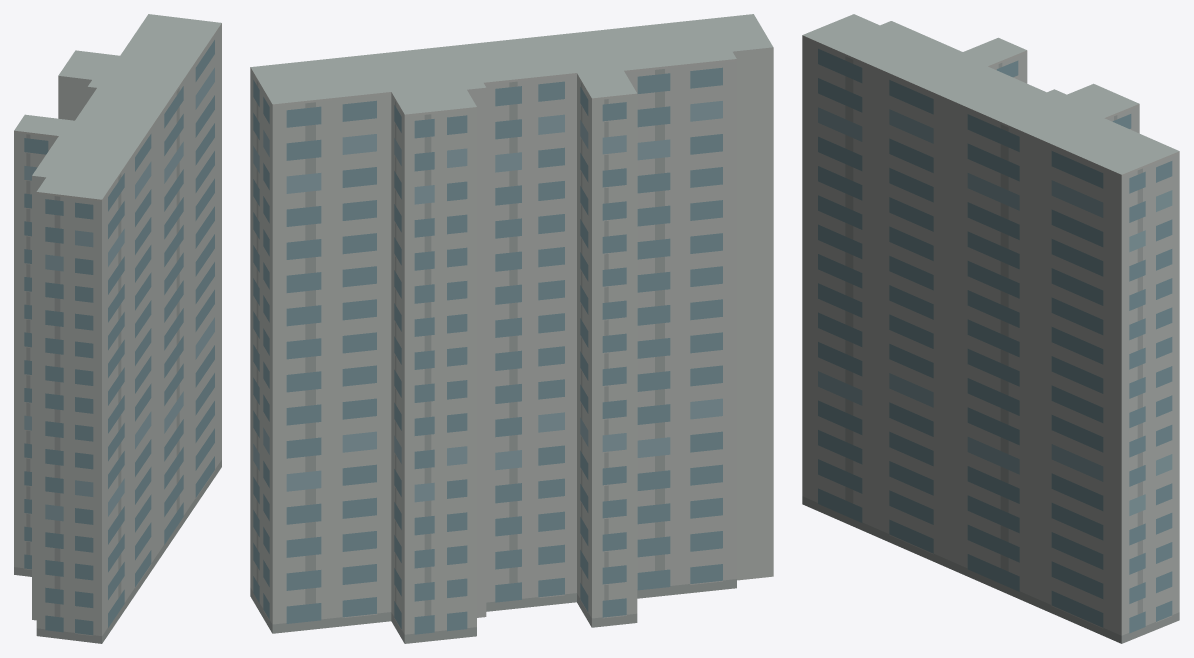
File: residential-b648a799-a70e-4067-91e8-d84bba383d31.glb
3 views of the same model, side by side, from view 1: azimuth 30°, elevation 25°; view 2: azimuth 150°, elevation 25°; view 3: azimuth 270°, elevation 25° (orthographic). The views are drawn at different scales.
Visible parts, largest first — view 1: residential-b648a799-a70e-4067-91e8-d84bba383d31.tmp; view 2: residential-b648a799-a70e-4067-91e8-d84bba383d31.tmp; view 3: residential-b648a799-a70e-4067-91e8-d84bba383d31.tmp.
Boxes of the visible parts, x1,y1,x2,y2 form: residential-b648a799-a70e-4067-91e8-d84bba383d31.tmp: [14, 14, 221, 643]; residential-b648a799-a70e-4067-91e8-d84bba383d31.tmp: [250, 14, 773, 643]; residential-b648a799-a70e-4067-91e8-d84bba383d31.tmp: [802, 14, 1179, 643].
Size of the model in its own units: 39.72 by 54 by 39.39.
